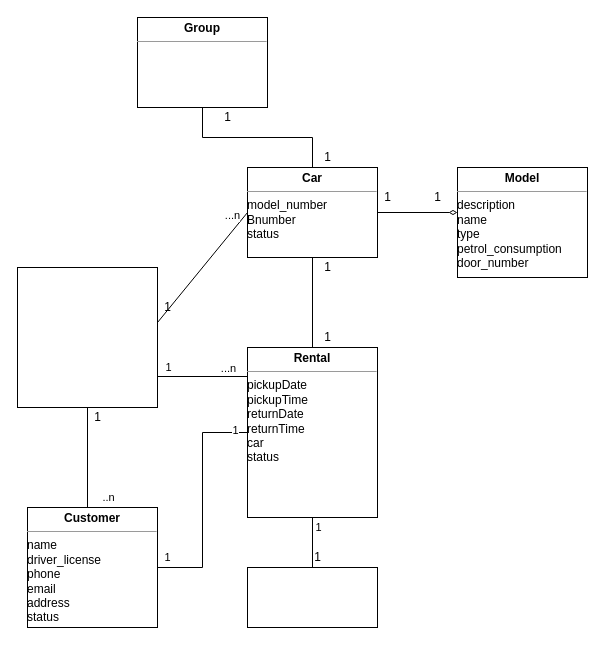
Image size: 605x645. Some labels were removed from this diagram. Here are the shapes that lost their labels. From the top down, the centre of each, then its label:
At [87,337]: "Branch Bnumber Bname location CustomerList BlackList DiscountList".
At [312,597]: "Payment".
